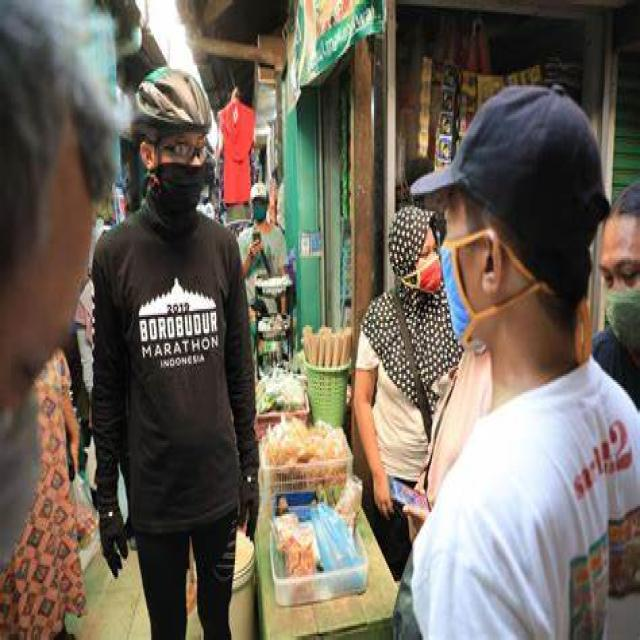illegal_helmet: (406, 75, 616, 364), (130, 57, 214, 222)
